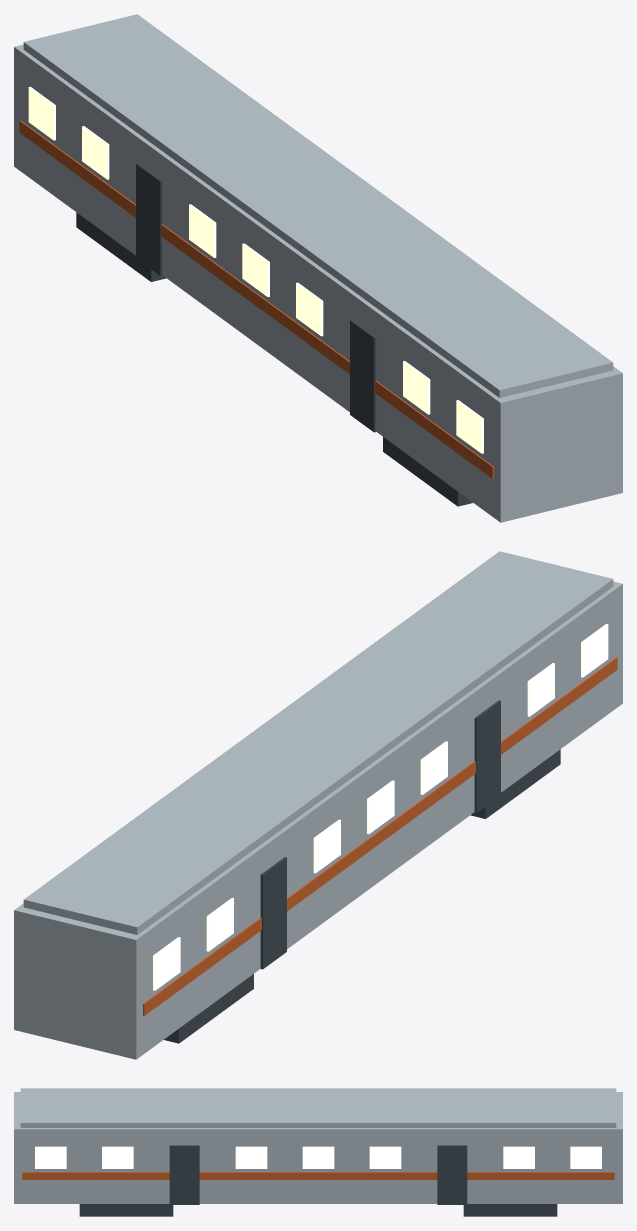
The model's file is subway-car.glb.
3 renders of one model, top to bottom at view 1: azimuth 30°, elevation 25°; view 2: azimuth 150°, elevation 25°; view 3: azimuth 270°, elevation 25°, orthographic. The views are drawn at different scales.
Bounding box in the file's own units: 2.73 × 3.14 × 18.2.
